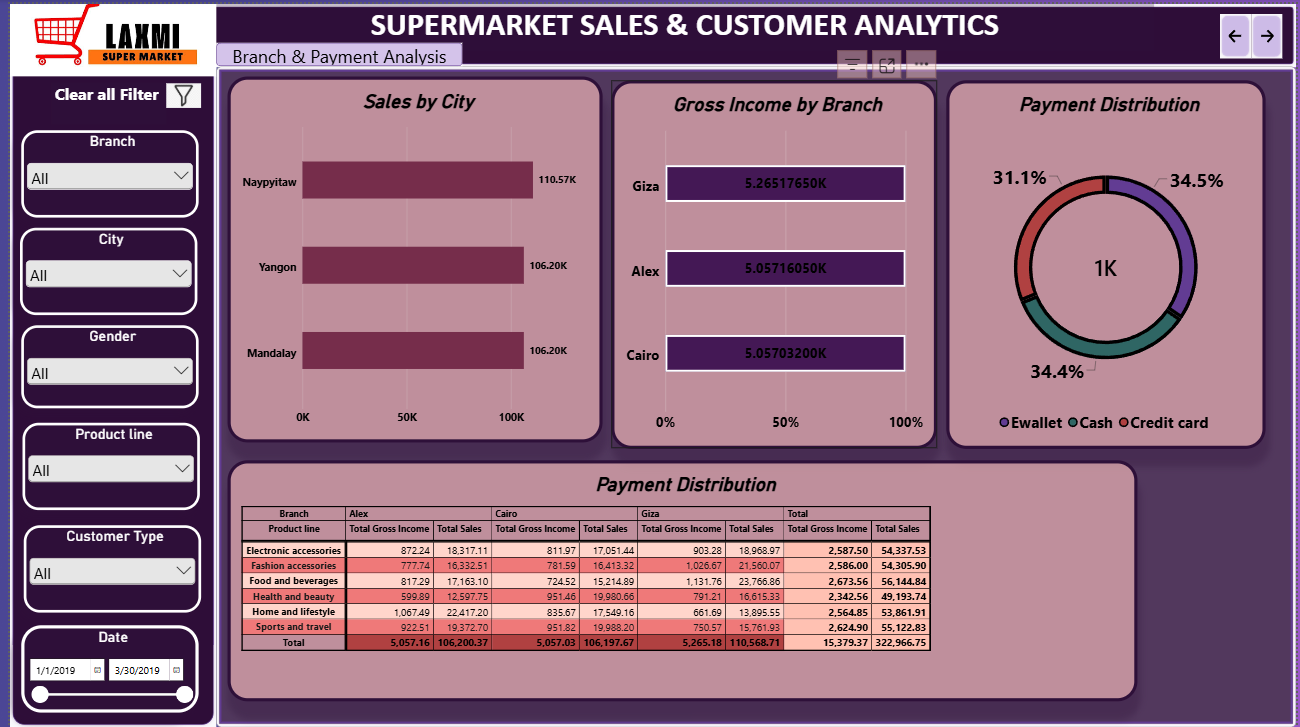

The dashboard page shown, as its layout file describes it:
{"tool":"powerbi","page":{"name":"Branch & Payment Analysis","canvas":[1920,1080],"ordinal":3},"visuals":[{"type":"shape","box":[0,0,308,1080],"z":0},{"type":"slicer","title":"Date","fields":{"Values":["Sales.Date"]},"box":[16,926,265,130],"z":0,"group":"g1"},{"type":"shape","box":[0,0,1920,94],"z":1000},{"type":"slicer","title":"Customer Type","fields":{"Values":["Sales.Customer type"]},"box":[20,778,265,130],"z":1000,"group":"g1"},{"type":"textbox","box":[286,0,1422,70],"z":2000},{"type":"slicer","title":"Gender","fields":{"Values":["Sales.Gender"]},"box":[16,480,265,124],"z":2000,"group":"g1"},{"type":"image","box":[0,0,308,108],"z":3000},{"type":"slicer","title":"City","fields":{"Values":["Sales.City"]},"box":[14,334,265,130],"z":3000,"group":"g1"},{"type":"shape","box":[308,94,1612,986],"z":4000},{"type":"slicer","title":"Product line","fields":{"Values":["Sales.Product line"]},"box":[18,624,265,130],"z":4000,"group":"g1"},{"type":"shape","box":[308,58,367.5,35],"z":5000},{"type":"slicer","title":"Branch","fields":{"Values":["Sales.Branch"]},"box":[16,188,265,130],"z":5000,"group":"g1"},{"type":"actionButton","box":[1852,14,46.7,66.7],"z":6000},{"type":"actionButton","box":[1806,14,46,66],"z":7000},{"type":"hundredPercentStackedBarChart","title":"Gross Income by Branch","fields":{"Category":["Sales.Branch"],"Y":["Measure.Total Gross Income"]},"box":[898,114,486.7,550],"z":8000},{"type":"barChart","title":"Sales by City","fields":{"Category":["Sales.City"],"Y":["Measure.Total Sales"]},"box":[324,108,560,546.7],"z":9000},{"type":"donutChart","title":"Payment Distribution","fields":{"Category":["Sales.Payment"],"Y":["Measure.Total Transactions"]},"box":[1398,114,476.7,550],"z":10000},{"type":"pivotTable","title":"Payment Distribution","fields":{"Columns":["Sales.Branch"],"Rows":["Sales.Product line"],"Values":["Measure.Total Gross Income","Measure.Total Sales"]},"box":[324,682,1358,360],"z":11000},{"type":"group","id":"g1","title":"Group 1","box":[14,188,271,868],"z":12000},{"type":"textbox","box":[62,118,172,62],"z":13000},{"type":"image","box":[234,118,52,38],"z":14000}]}

Visuals, with their boxes in screenshot pixels (x1, y1, x2, y2), scaled from the page's 1920x1080 canvas onto the 1300x727 screenshot:
shape: rect(0, 0, 209, 726)
"Date" slicer: rect(11, 623, 190, 711)
shape: rect(0, 0, 1299, 63)
"Customer Type" slicer: rect(14, 524, 193, 611)
textbox: rect(194, 0, 1156, 47)
"Gender" slicer: rect(11, 323, 190, 407)
image: rect(0, 0, 209, 73)
"City" slicer: rect(9, 225, 189, 312)
shape: rect(209, 63, 1299, 726)
"Product line" slicer: rect(12, 420, 192, 508)
shape: rect(209, 39, 457, 63)
"Branch" slicer: rect(11, 127, 190, 214)
actionButton: rect(1254, 9, 1286, 54)
actionButton: rect(1223, 9, 1254, 54)
"Gross Income by Branch" hundredPercentStackedBarChart: rect(608, 77, 938, 447)
"Sales by City" barChart: rect(219, 73, 599, 441)
"Payment Distribution" donutChart: rect(947, 77, 1269, 447)
"Payment Distribution" pivotTable: rect(219, 459, 1139, 701)
"Group 1" group: rect(9, 127, 193, 711)
textbox: rect(42, 79, 158, 121)
image: rect(158, 79, 194, 105)
